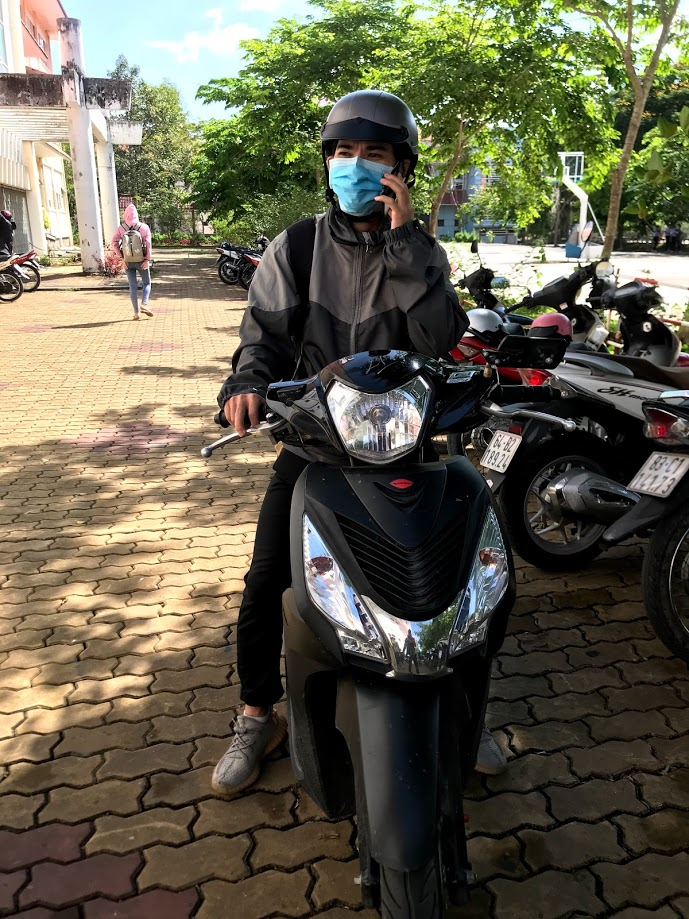dieu khien xe may: (259, 87, 512, 687)
su dung dien thoai: (322, 91, 423, 258)
